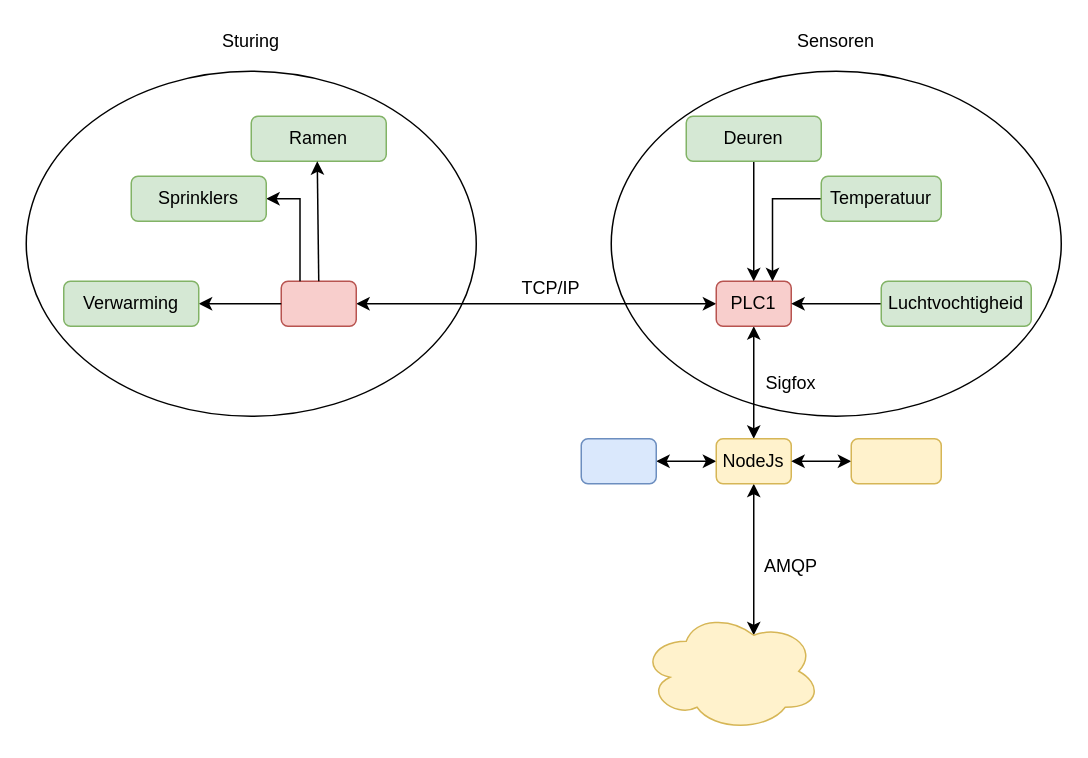
This 1088x758 diagram has some shape labels left out. Here are the shapes that lost their labels. From the top down, the box of each, then its label:
(280, 280, 356, 326): PLC2
(580, 437, 656, 484): UI
(850, 437, 941, 484): Database
(640, 610, 821, 731): Cloudservices
